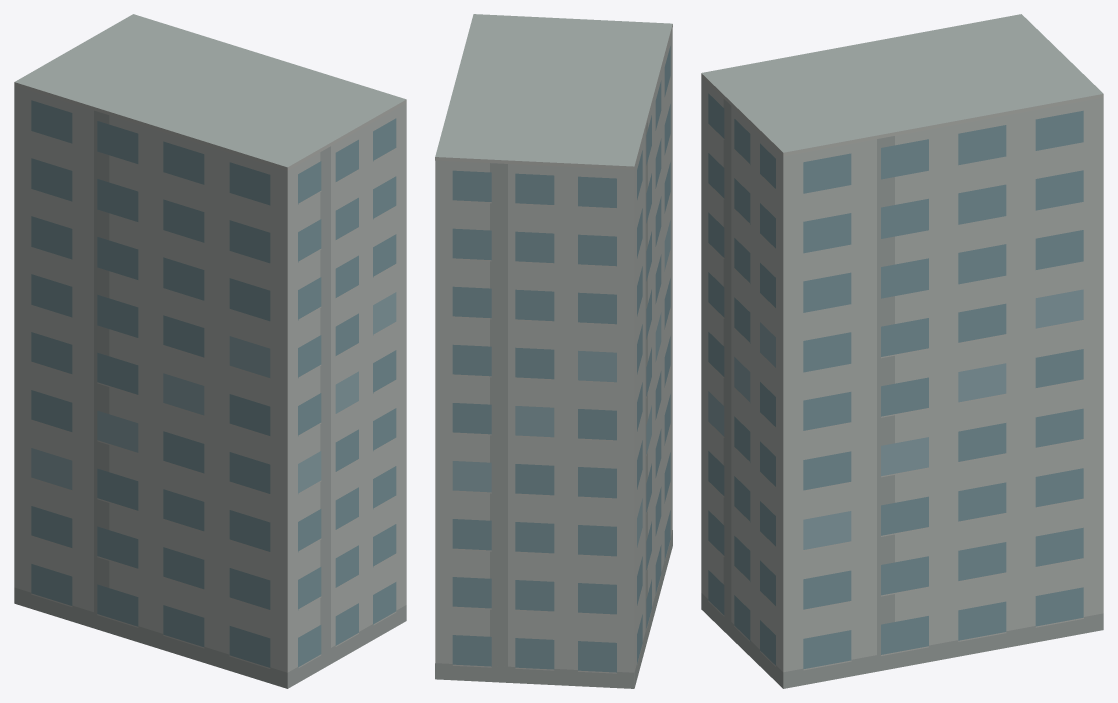
File: residential-5c75bd0b-fc16-47c9-a50a-0fc891c6f390.glb
The picture shows the model from 3 angles, left to right: view 1: azimuth 30°, elevation 25°; view 2: azimuth 150°, elevation 25°; view 3: azimuth 270°, elevation 25°; orthographic projection. The views are drawn at different scales.
Parts seen in each view (by area): view 1: residential-5c75bd0b-fc16-47c9-a50a-0fc891c6f390.tmp; view 2: residential-5c75bd0b-fc16-47c9-a50a-0fc891c6f390.tmp; view 3: residential-5c75bd0b-fc16-47c9-a50a-0fc891c6f390.tmp.
Boxes of the visible parts, x1,y1,x2,y2 form: residential-5c75bd0b-fc16-47c9-a50a-0fc891c6f390.tmp: (14,14,406,688); residential-5c75bd0b-fc16-47c9-a50a-0fc891c6f390.tmp: (435,14,672,688); residential-5c75bd0b-fc16-47c9-a50a-0fc891c6f390.tmp: (701,14,1103,688).
Size of the model in its own units: 19.98 by 36 by 24.5.
